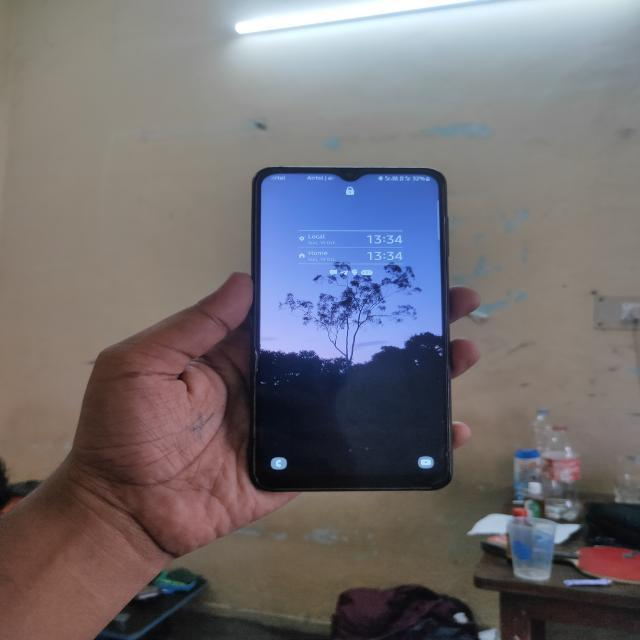Phone: (243, 161, 461, 498)
